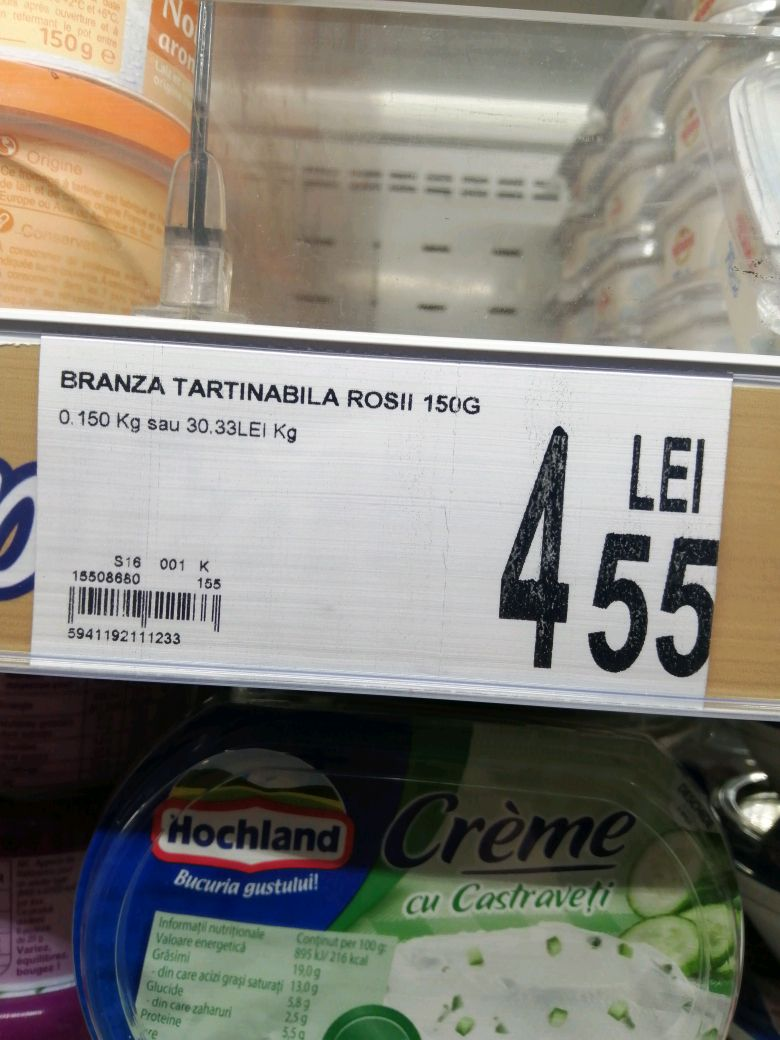price_bani: (587, 516, 727, 676)
price_lei: (494, 415, 581, 673)
price_tag: (23, 326, 743, 713)
product_id: (59, 619, 190, 657)
product_name: (49, 361, 491, 423)
